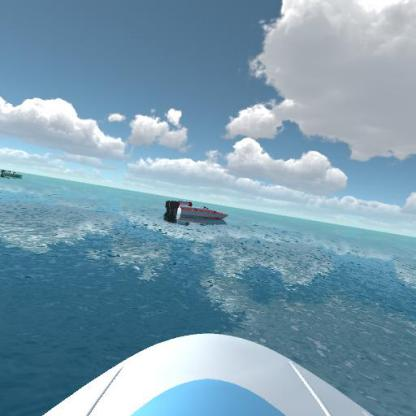usv0: (0, 162, 29, 185)
usv3: (164, 192, 231, 230)
